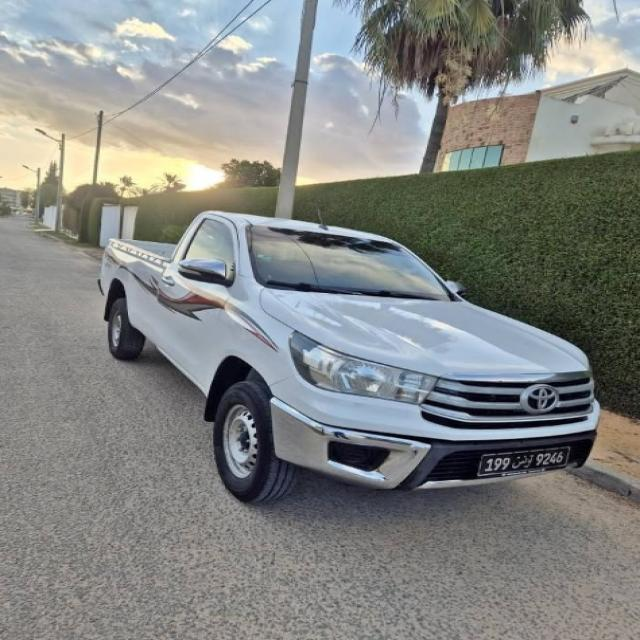licence plate: (482, 450, 569, 474)
